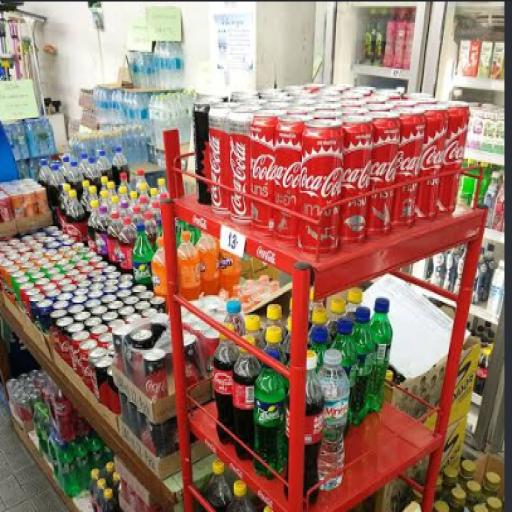coca_cola: (298, 121, 341, 251), (340, 116, 372, 243), (392, 110, 425, 226), (416, 107, 447, 217), (438, 102, 468, 211), (228, 112, 252, 222), (274, 118, 303, 209), (250, 112, 277, 202), (370, 112, 399, 190), (210, 104, 229, 214), (84, 341, 106, 397), (366, 191, 392, 232), (54, 310, 73, 364), (70, 332, 88, 376), (275, 211, 297, 240), (252, 202, 270, 229), (366, 96, 389, 109), (268, 98, 293, 109), (287, 105, 312, 115), (313, 110, 338, 119), (342, 104, 367, 113), (405, 93, 431, 101), (291, 96, 314, 105), (387, 98, 405, 104), (287, 102, 299, 109)
